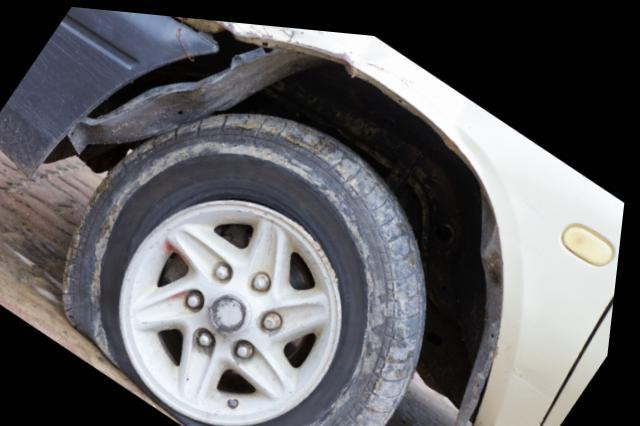tire flat: (66, 102, 434, 426)
